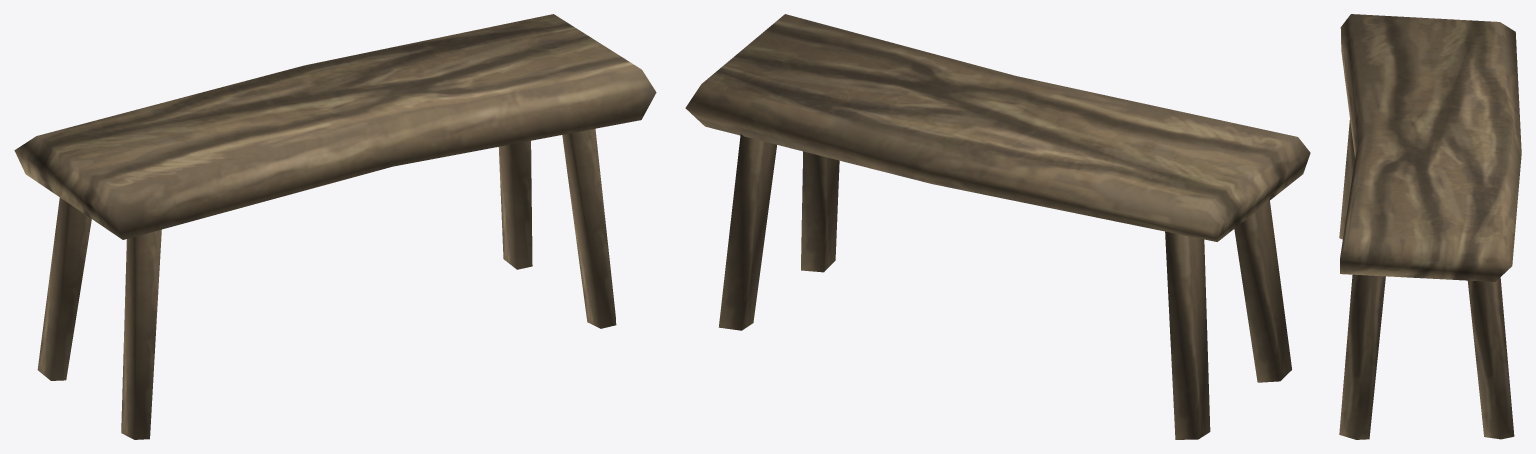
The model's file is bench.FBX.
3 renders of one model, left to right at view 1: azimuth 30°, elevation 25°; view 2: azimuth 150°, elevation 25°; view 3: azimuth 270°, elevation 25°, orthographic. The views are drawn at different scales.
Parts seen in each view (by area): view 1: bench; view 2: bench; view 3: bench.
Part boxes in pixels (left/top/right/bottom): bench: left=14, top=14, right=656, bottom=439; bench: left=685, top=14, right=1310, bottom=439; bench: left=1339, top=14, right=1521, bottom=439.
Size of the model in its own units: 1.1 by 0.4896 by 0.3729.
